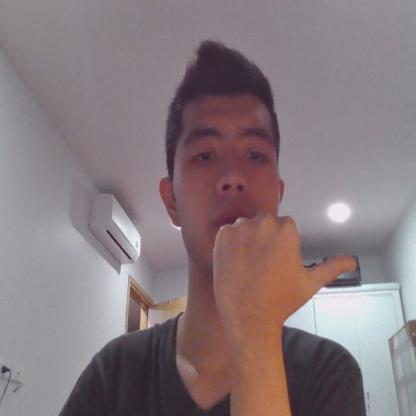left: (212, 208, 358, 340)
